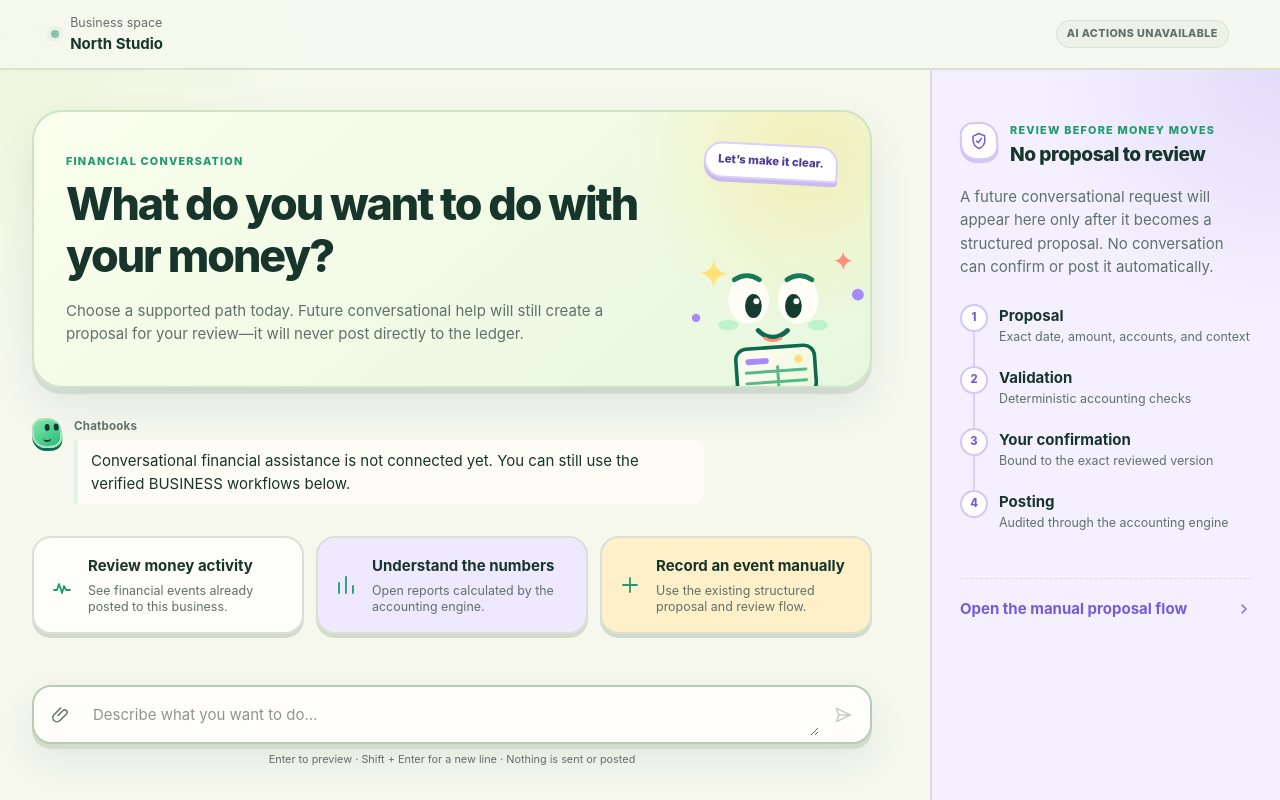
Scenario: conversation and review foundation › discloses that attachments are unavailable
Click the button named "Attach a financial document": (61, 715) [40,694,82,736]
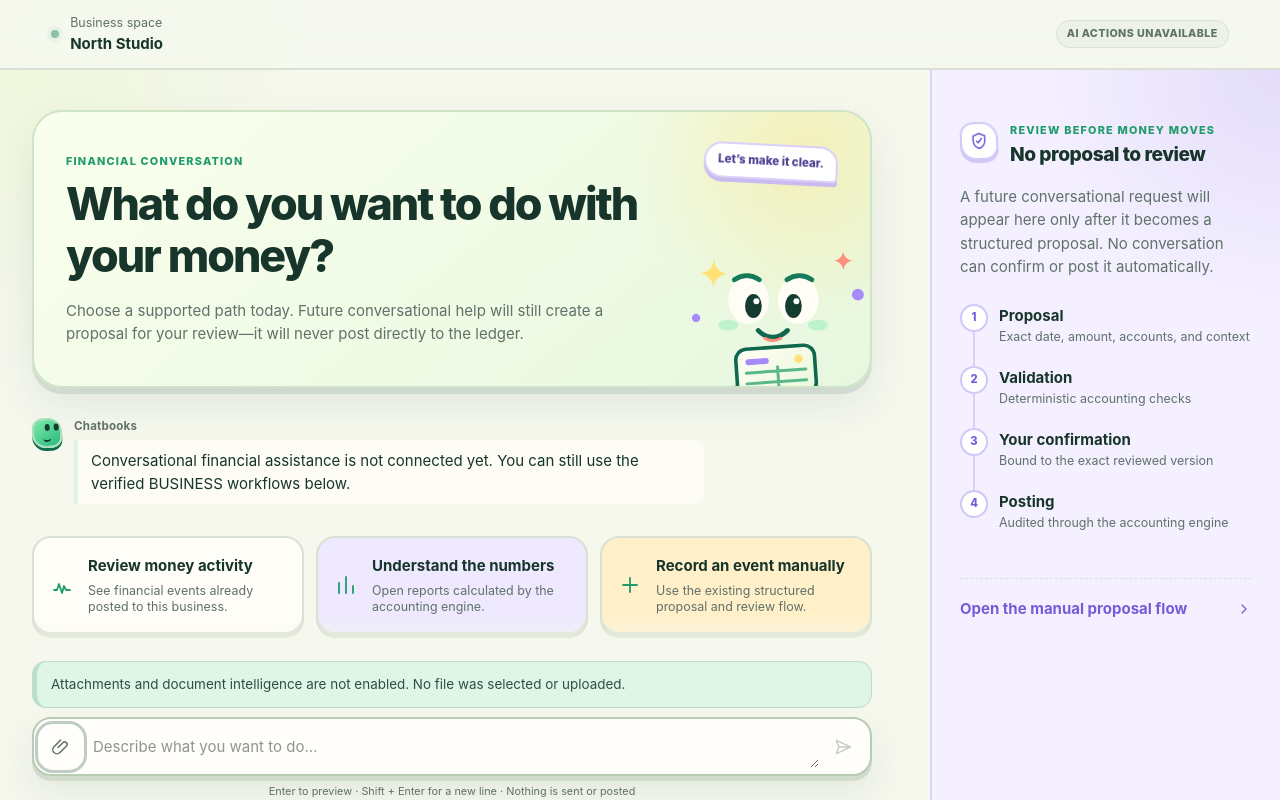
Expected: the text "No file was selected or uploaded" is shown, [51,676,625,692]
